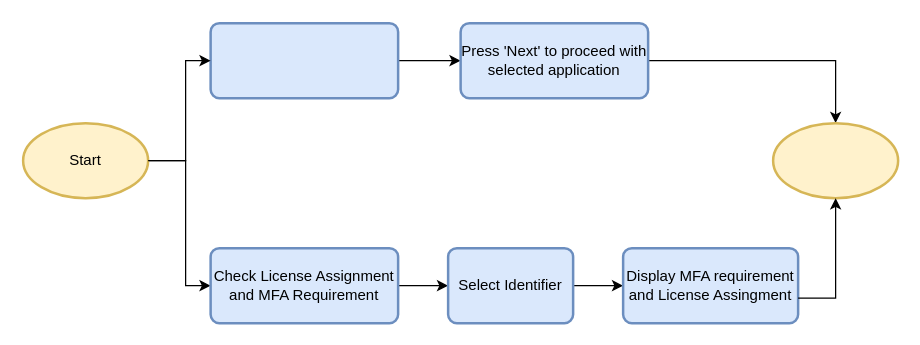
The diagram is 920 pixels wide and 345 high, and some of its shapes have lost their labels. Each missing label, with the centre of its shape:
"End" belongs at point 835,160.
"Select Application (RUBIK/ Power BI)" belongs at point 304,60.
